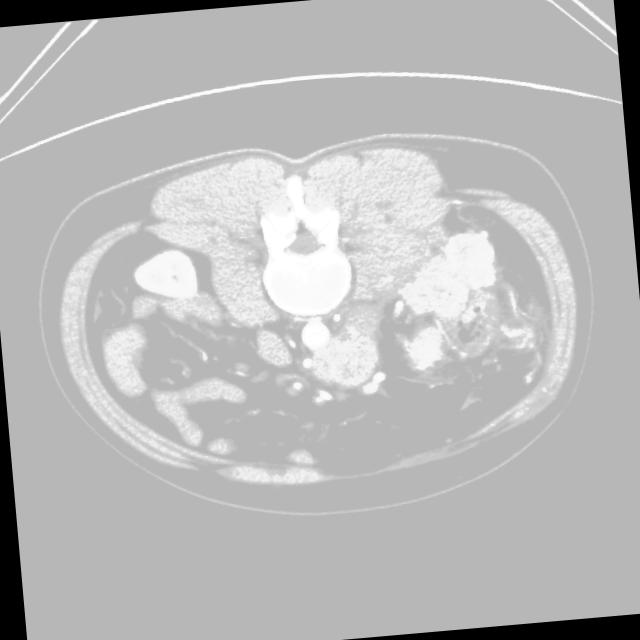TUMOR: (111, 172, 546, 459)
